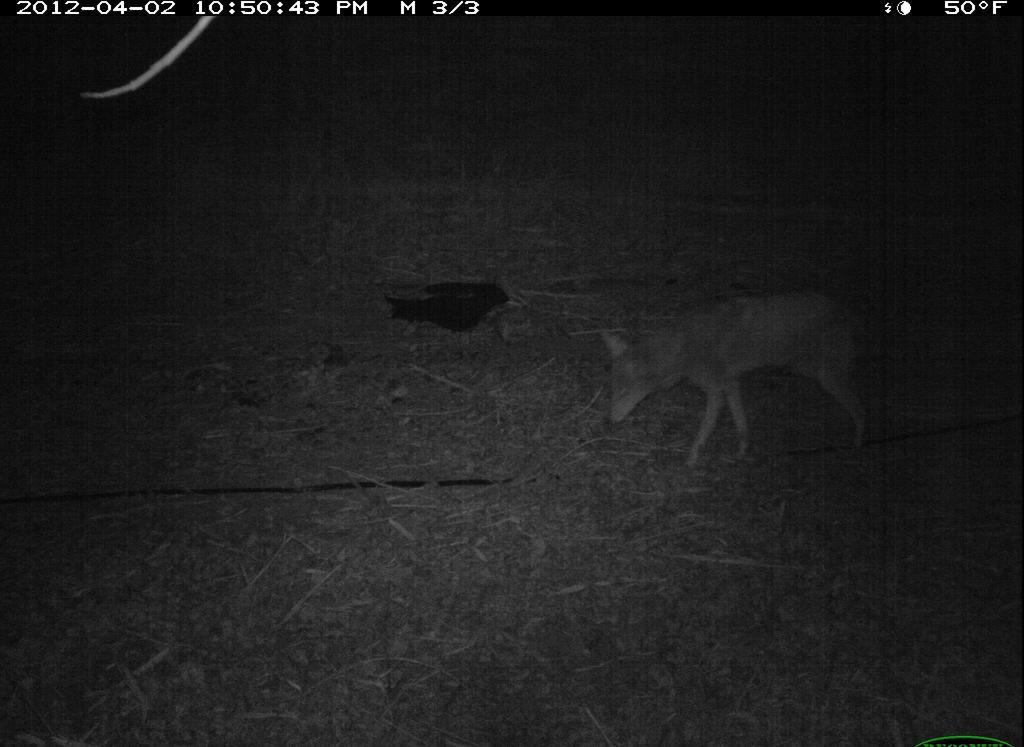coyote: (593, 290, 890, 497)
